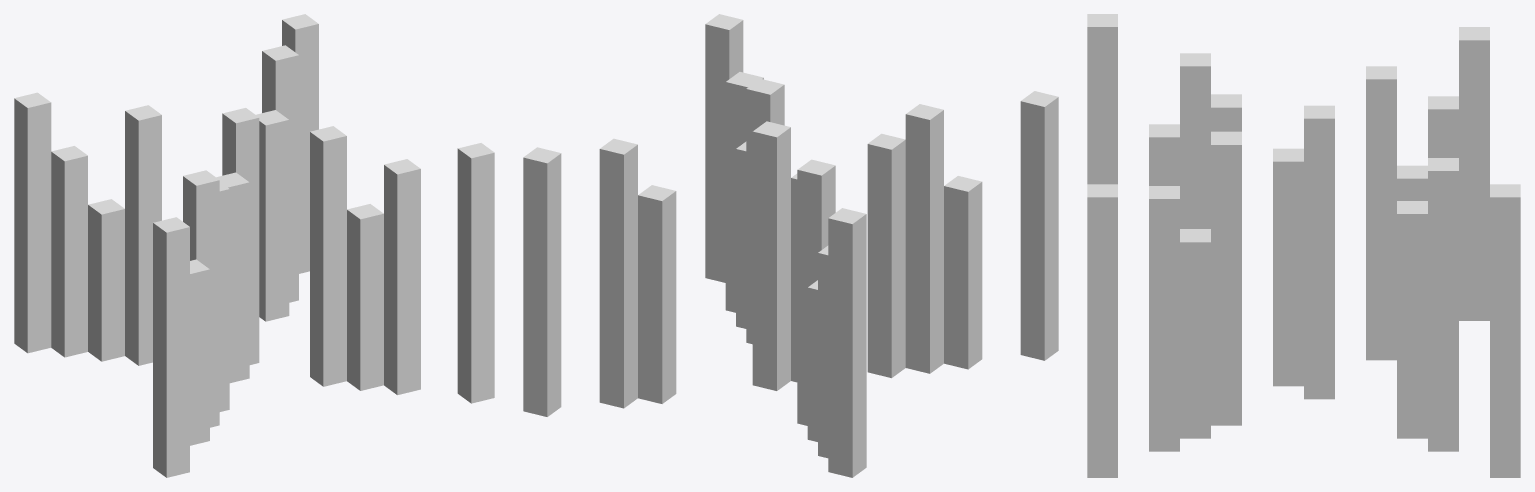
Rendered from spikes.obj.
3 views of the same model, side by side, from view 1: azimuth 30°, elevation 25°; view 2: azimuth 150°, elevation 25°; view 3: azimuth 270°, elevation 25° (orthographic). The views are drawn at different scales.
Size of the model in its own units: 1.4 by 1 by 1.4.
